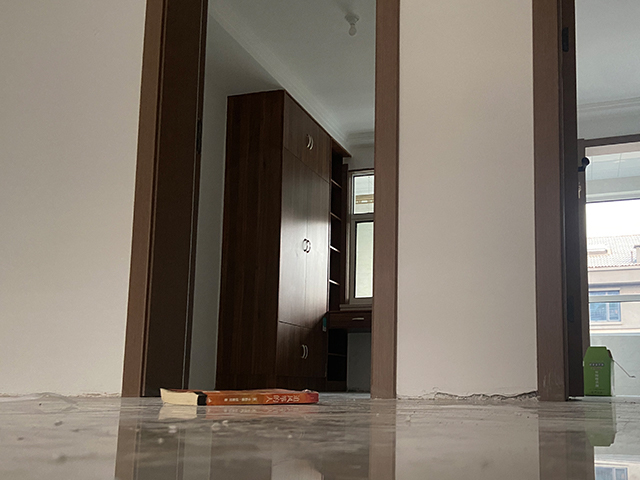book: (159, 387, 319, 407)
cabinet: (215, 89, 351, 393)
